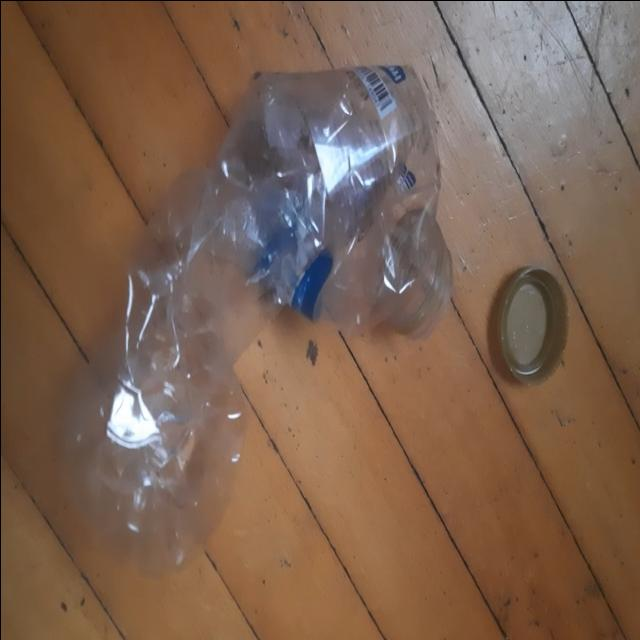Plastic: (84, 63, 452, 579)
